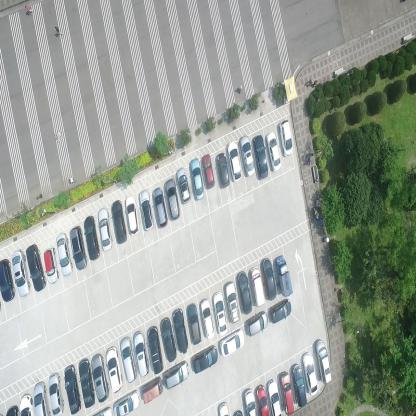car: (26, 243, 46, 292), (11, 249, 31, 298), (91, 352, 109, 403), (78, 357, 96, 408), (63, 364, 81, 415), (118, 336, 137, 384), (105, 346, 123, 395), (275, 252, 294, 298), (69, 225, 88, 270), (147, 325, 164, 375), (252, 132, 269, 181), (192, 342, 218, 374), (314, 338, 332, 384), (83, 214, 100, 262), (160, 316, 177, 362), (133, 329, 149, 377), (164, 358, 188, 390), (301, 350, 318, 395), (111, 199, 127, 246), (56, 233, 73, 277), (152, 185, 168, 230), (0, 258, 16, 303), (173, 306, 188, 354), (220, 327, 244, 357), (292, 363, 308, 408), (240, 134, 256, 178), (164, 177, 180, 221), (138, 187, 154, 231), (261, 256, 277, 300), (212, 290, 228, 334), (200, 296, 216, 340), (186, 301, 202, 345), (48, 372, 64, 416), (113, 389, 140, 415), (98, 206, 113, 252), (266, 130, 282, 173), (224, 280, 240, 323), (237, 270, 252, 315), (245, 309, 269, 337), (280, 371, 295, 415), (43, 247, 60, 285), (226, 140, 241, 182), (250, 265, 265, 307), (33, 381, 51, 415), (176, 166, 192, 204), (125, 195, 140, 235), (190, 158, 204, 200), (279, 118, 294, 157), (267, 377, 282, 415), (270, 299, 292, 324), (142, 377, 162, 404), (216, 152, 230, 190), (256, 382, 271, 415), (202, 153, 215, 189), (243, 387, 257, 415), (19, 394, 35, 416)
